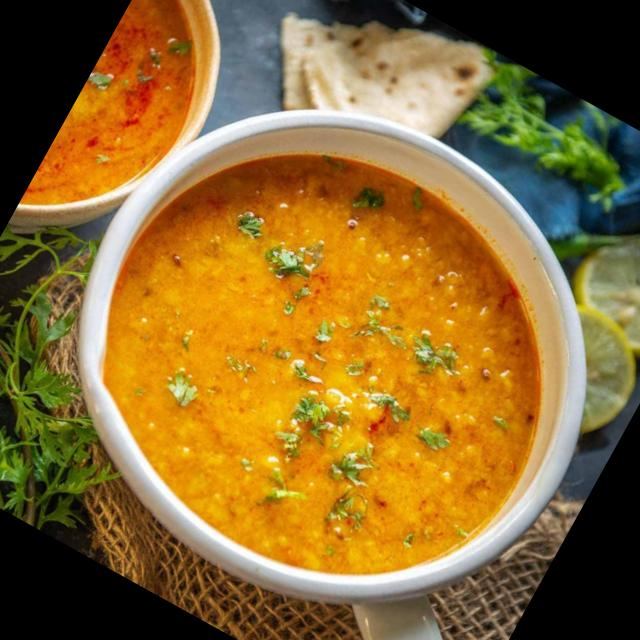dal: (110, 157, 539, 577), (19, 0, 197, 203)
